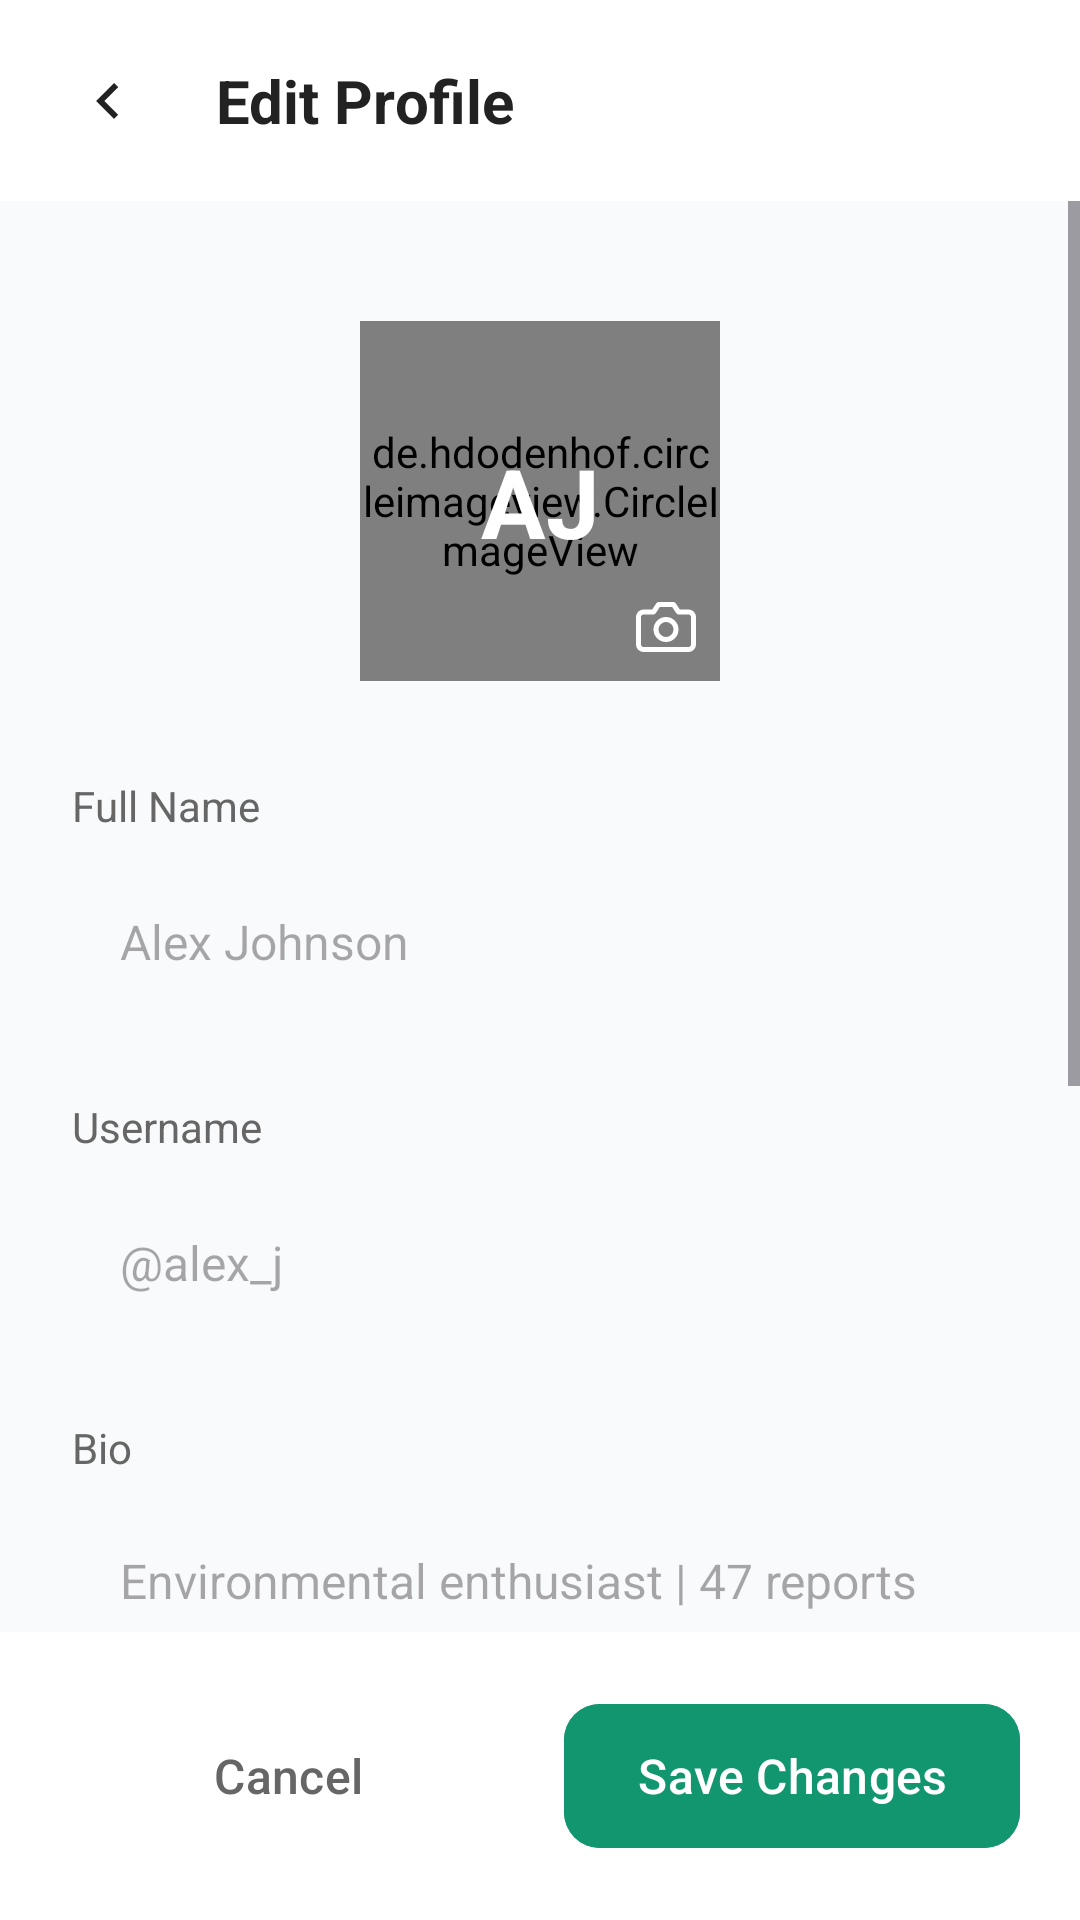

Locate icon controls on the screen. Image size 1080px×1920px, boxes as (x1, y1, x2, y2).
Back: (96, 83, 118, 119)
camera: (636, 602, 696, 652)
